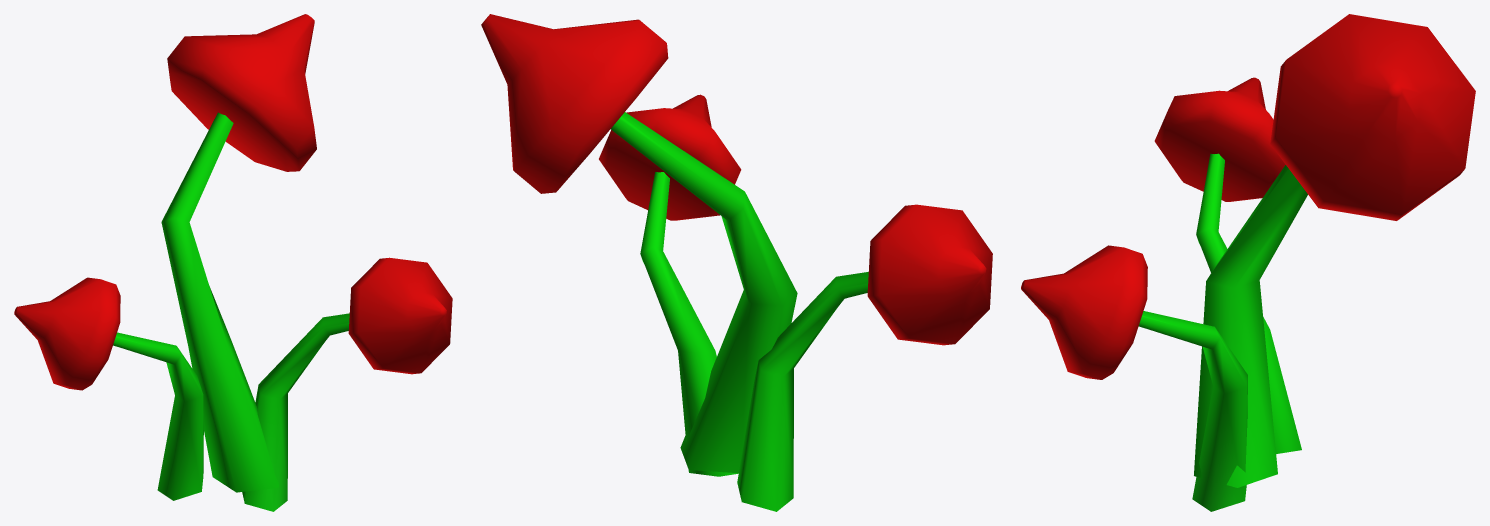
Rendered from Mushroom_Small.fbx.
3 renders of one model, left to right at view 1: azimuth 30°, elevation 25°; view 2: azimuth 150°, elevation 25°; view 3: azimuth 270°, elevation 25°, orthographic. The views are drawn at different scales.
Parts seen in each view (by area): view 1: Mushroom_Small; view 2: Mushroom_Small; view 3: Mushroom_Small.
Part boxes in pixels (<box>): Mushroom_Small: <box>14,14,452,511</box>; Mushroom_Small: <box>481,14,992,511</box>; Mushroom_Small: <box>1021,14,1475,511</box>.
Bounding box in the file's own units: 37.03 × 32.53 × 38.89.
